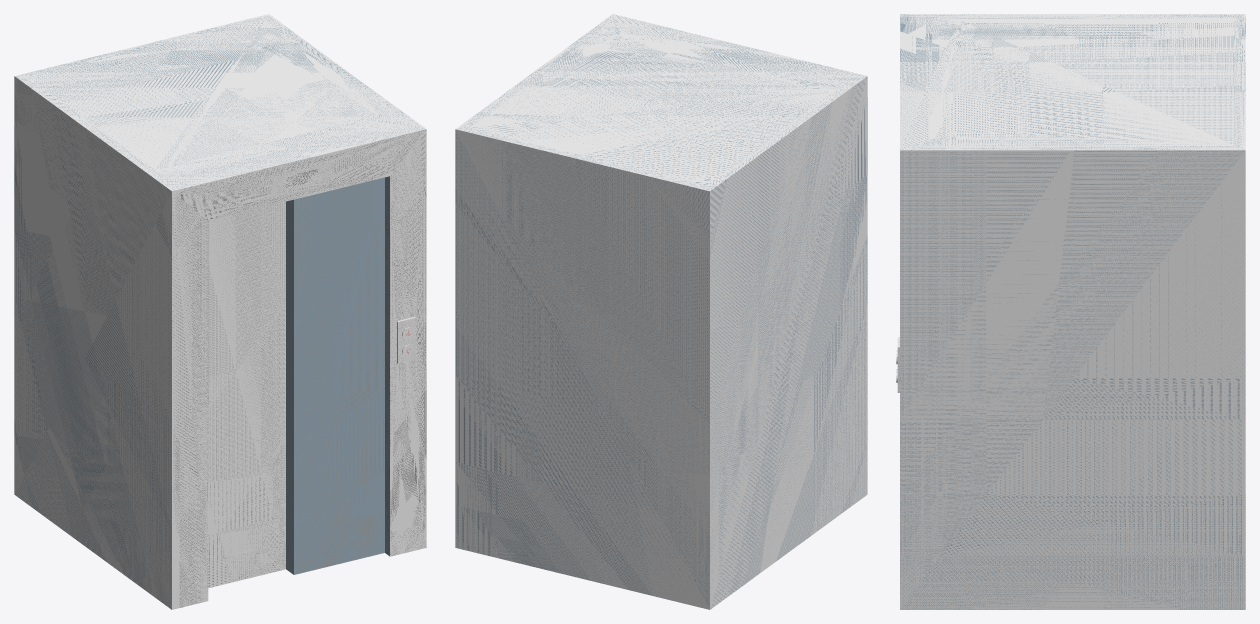
The model's file is Elevator_MR.fbx.
3 views of the same model, side by side, from view 1: azimuth 30°, elevation 25°; view 2: azimuth 150°, elevation 25°; view 3: azimuth 270°, elevation 25° (orthographic). The views are drawn at different scales.
Parts seen in each view (by area): view 1: elevator_1_1; view 2: elevator_1_1; view 3: elevator_1_1.
Part boxes in pixels (x1,y1,x2,y2): elevator_1_1: (14, 14, 426, 609); elevator_1_1: (455, 14, 867, 609); elevator_1_1: (896, 14, 1245, 609).
Size of the model in its own units: 1.4 by 2.2 by 1.52.
